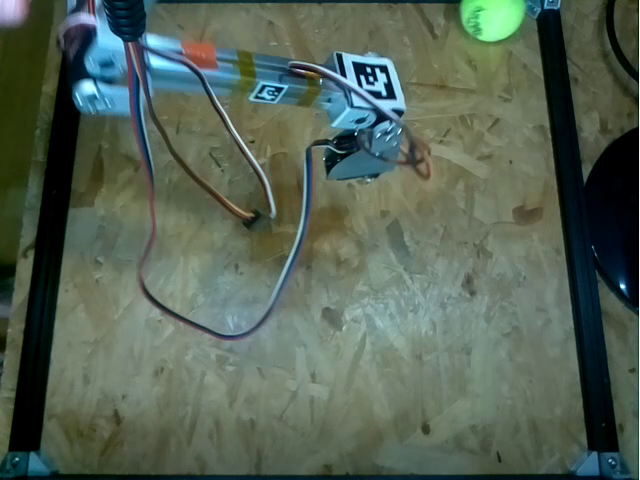tennis_ball: (458, 1, 527, 41)
